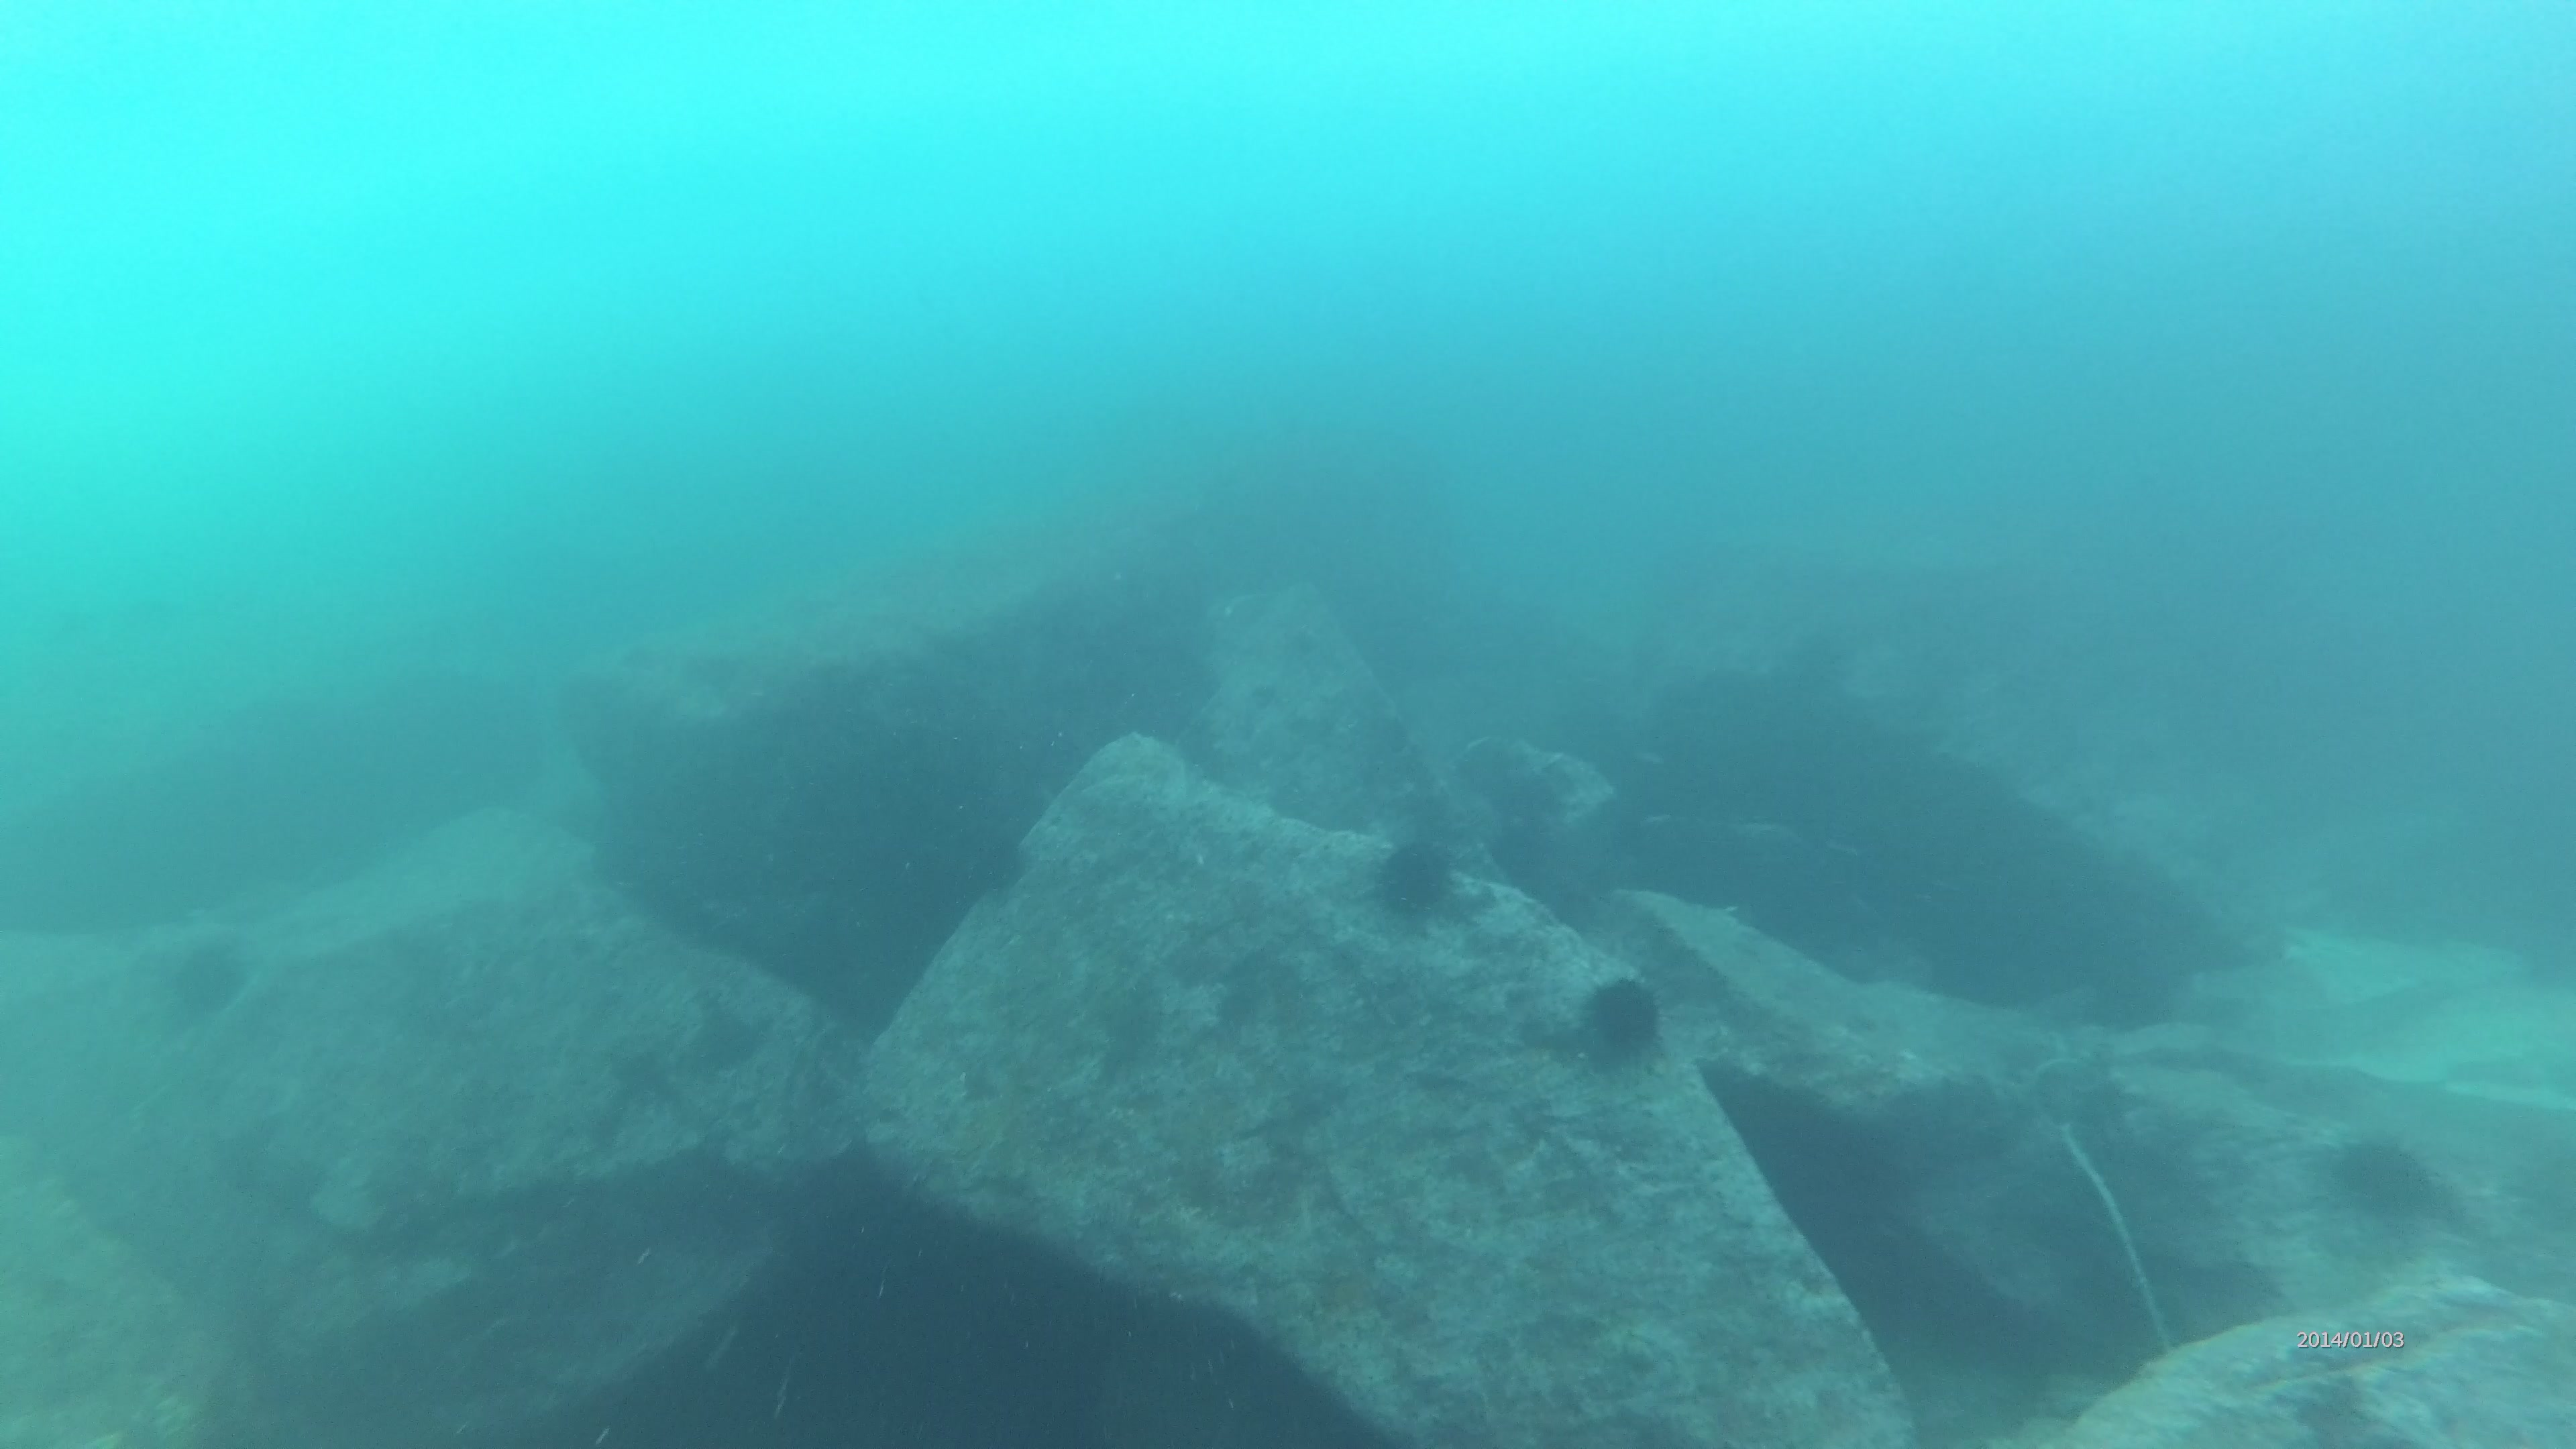echinus: (2293, 1116, 2454, 1292), (1564, 954, 1677, 1076), (1361, 821, 1465, 927)
